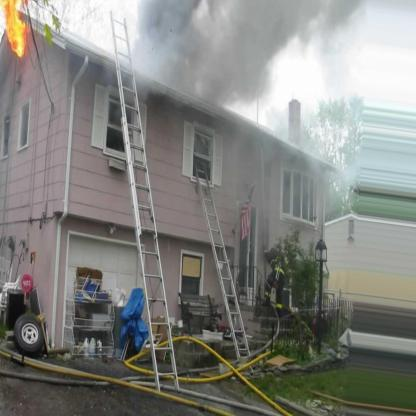fire: (1, 0, 31, 70)
smoke: (129, 0, 370, 110)
